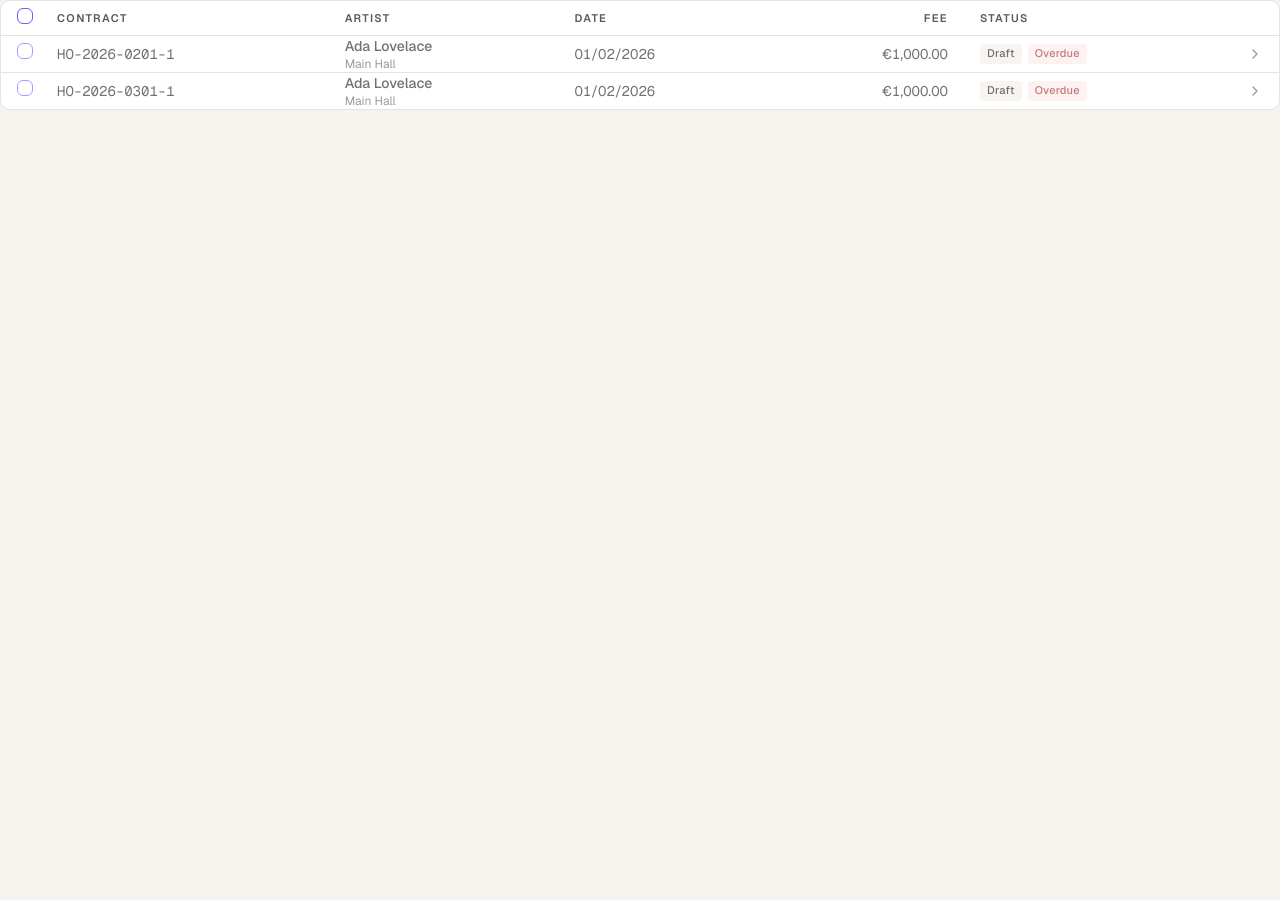
Scenario: OrdersTable batch issue selection › clears the whole selection when every order in the batch issues successfully
Click the checkbox named "select contract ho-2026-0201-1".
click(25, 51)  # box [17, 43, 33, 59]
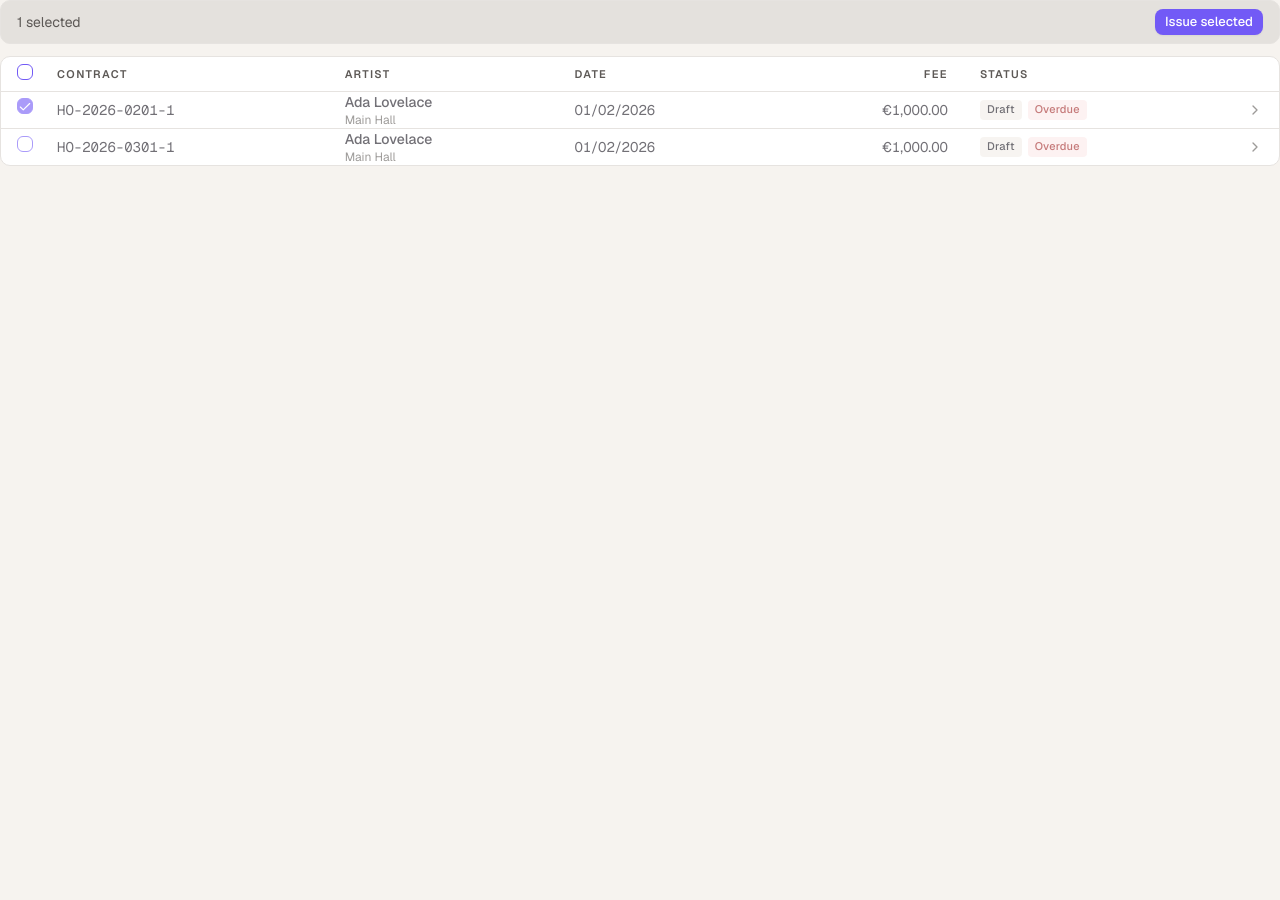
Click the checkbox named "select contract ho-2026-0301-1".
click(25, 144)  # box [17, 136, 33, 152]
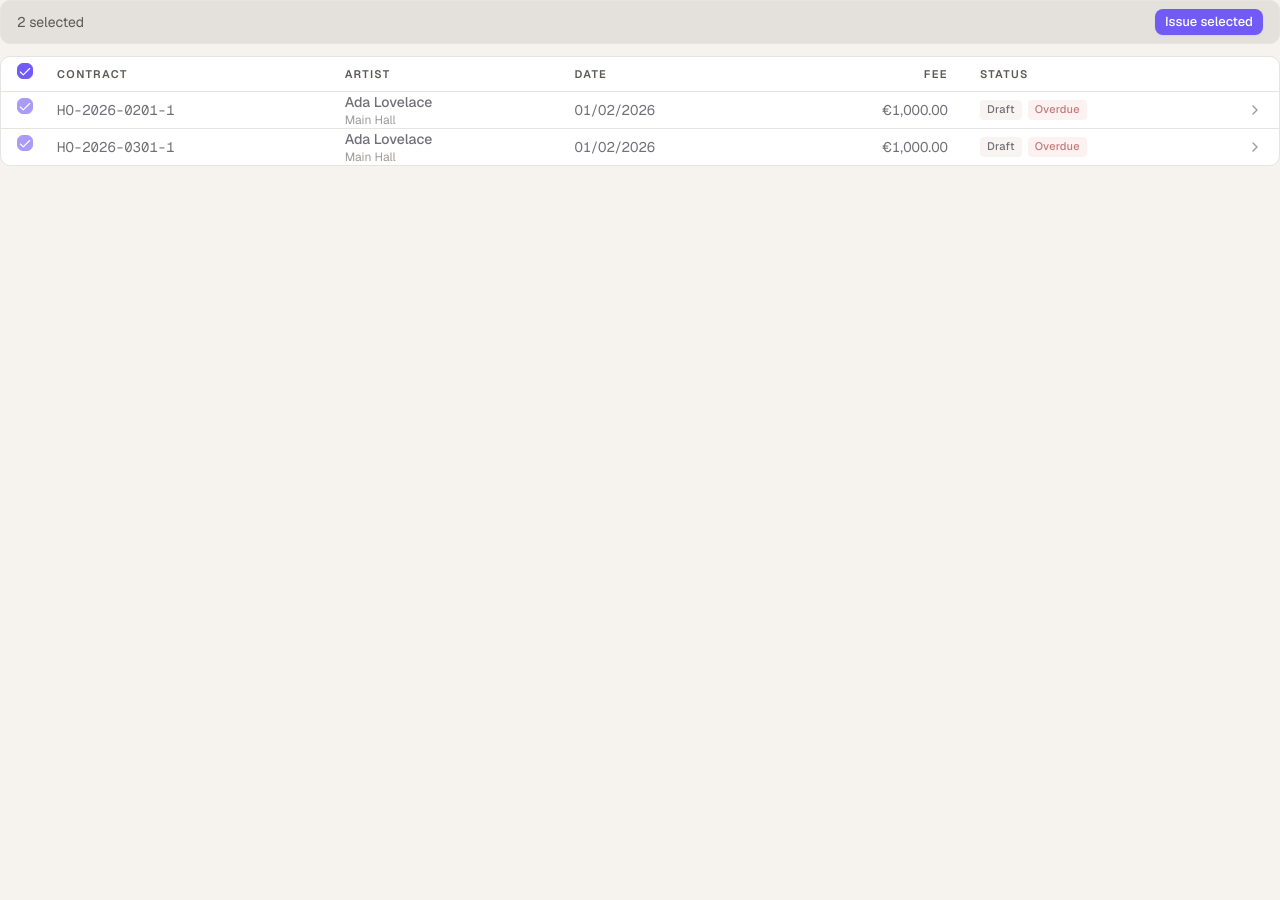
Click the button "Issue selected".
click(1209, 22)  # box [1155, 9, 1263, 35]
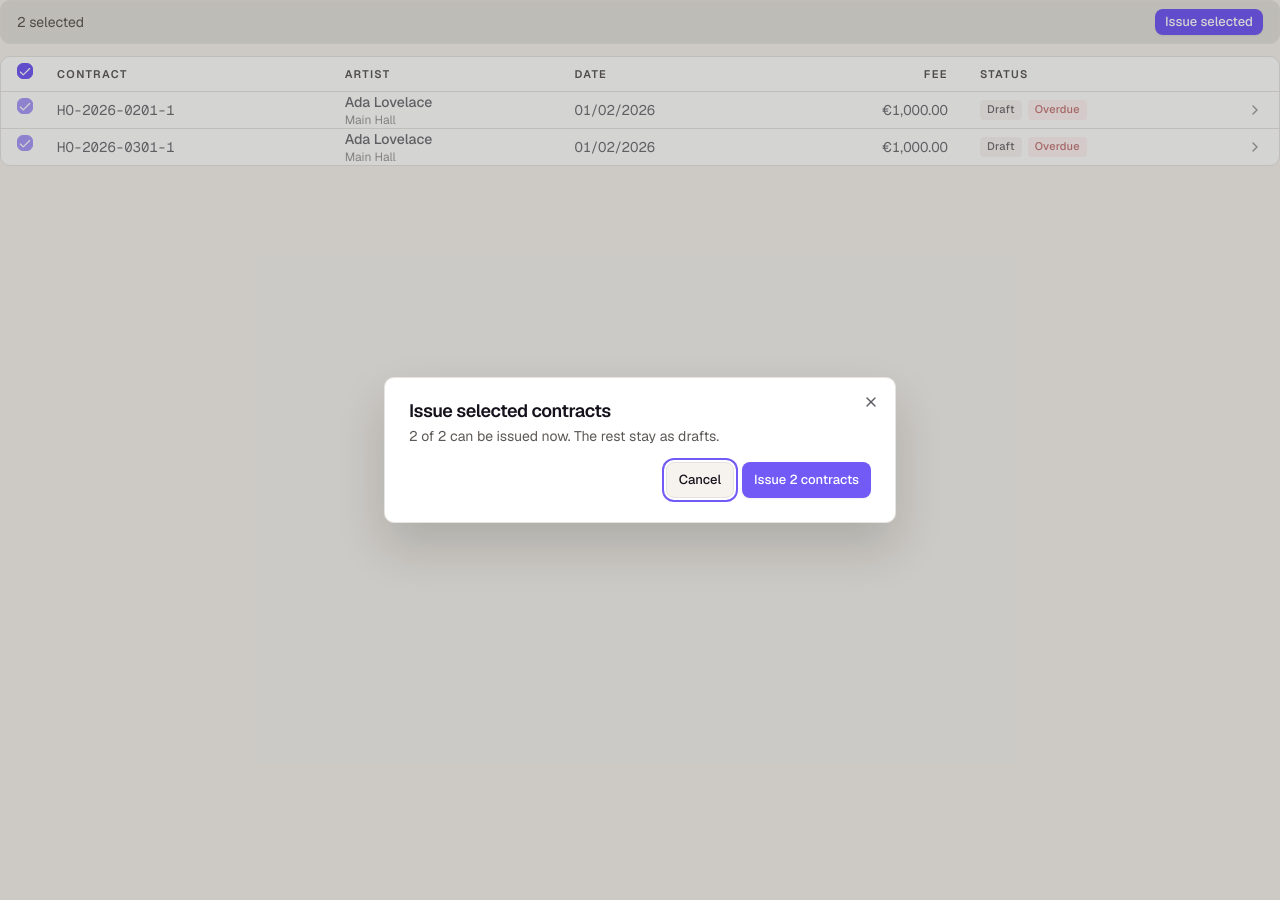
Click the button "Issue 2 contracts".
click(807, 480)  # box [742, 462, 871, 498]
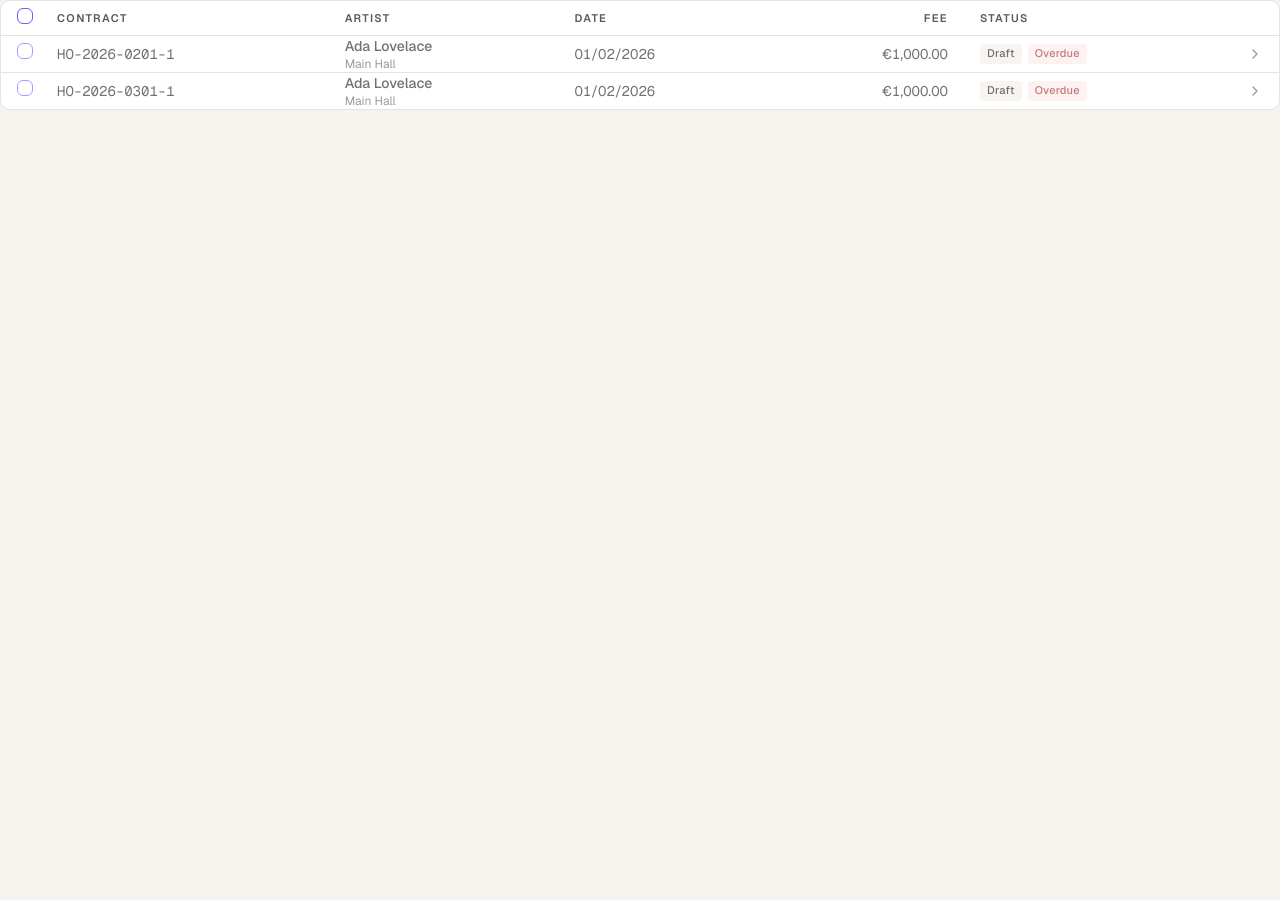
Now the text "selected" is gone
